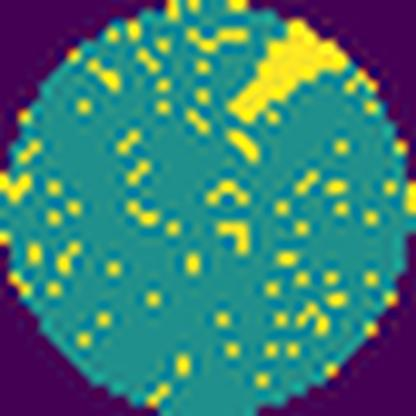Loc: (232, 19, 348, 122)
